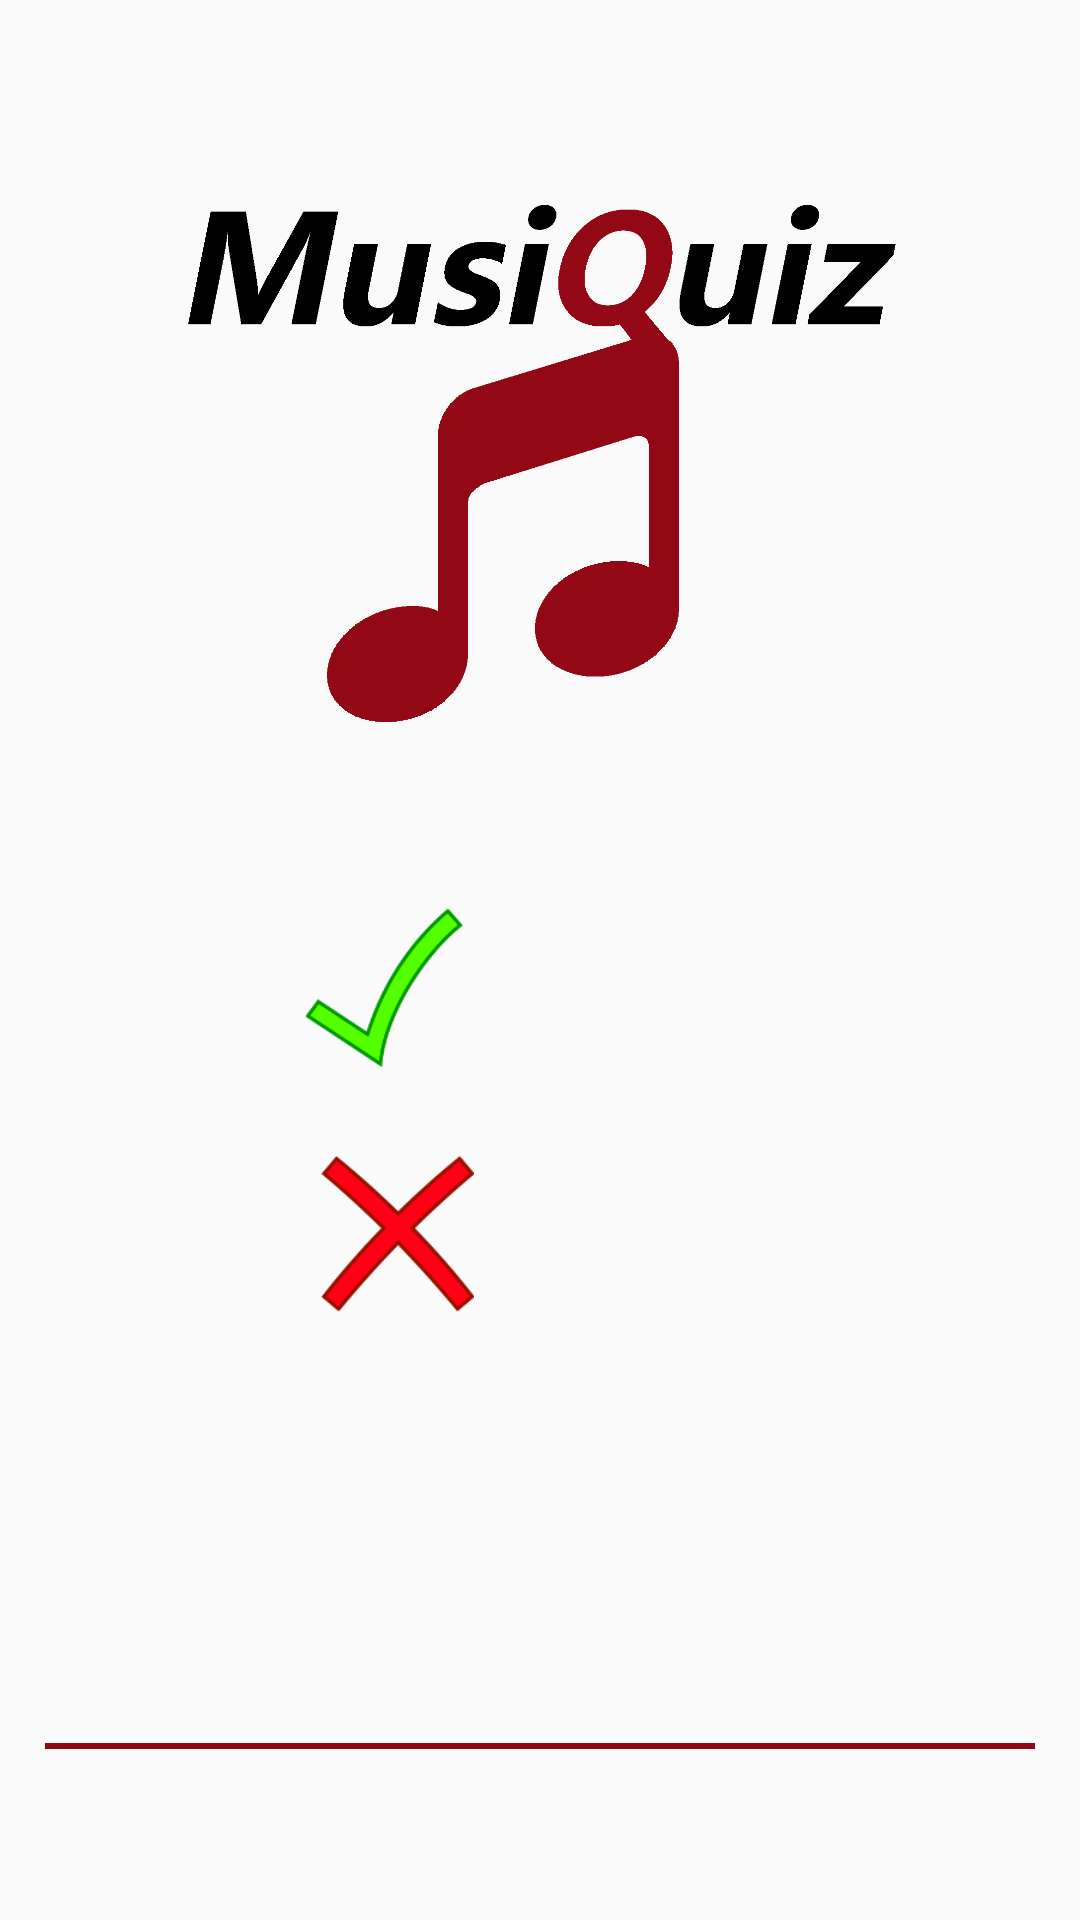

Locate icon controls on the screen. Image size 1080×1920, boxes as (x1, y1, x2, y2).
check: (306, 908, 463, 1067)
error: (321, 1156, 474, 1312)
